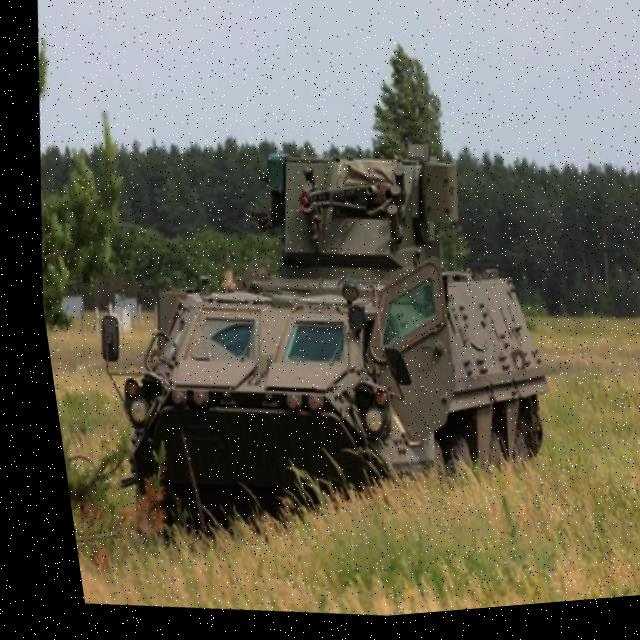MIL_APC: (80, 110, 634, 578)
